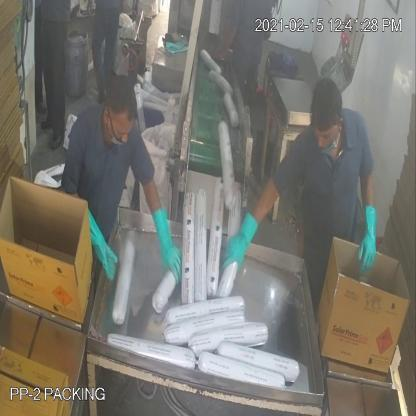glove: (149, 199, 185, 306), (78, 200, 119, 286), (224, 207, 260, 284), (354, 204, 382, 282)
no_glove: (211, 20, 235, 65)
